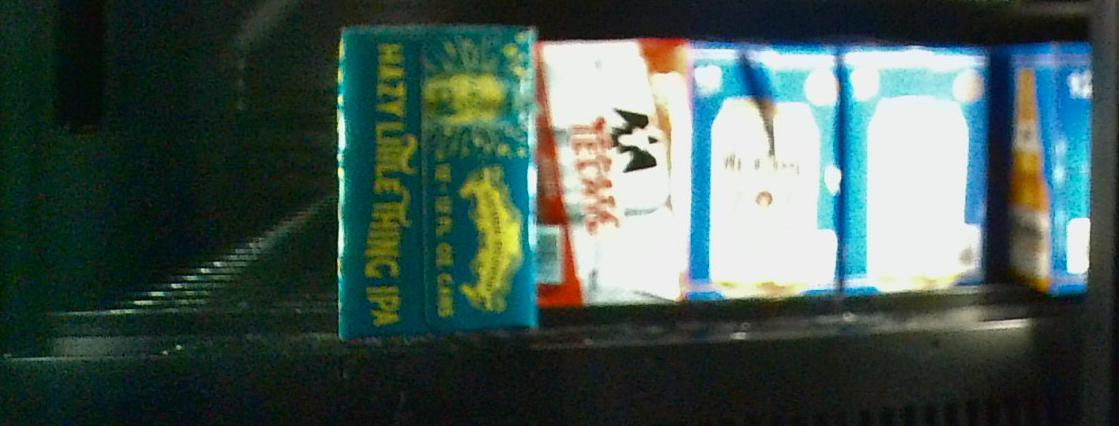bottle: (333, 26, 538, 329), (690, 37, 838, 307), (536, 41, 686, 307), (840, 44, 995, 295), (999, 44, 1090, 299)
